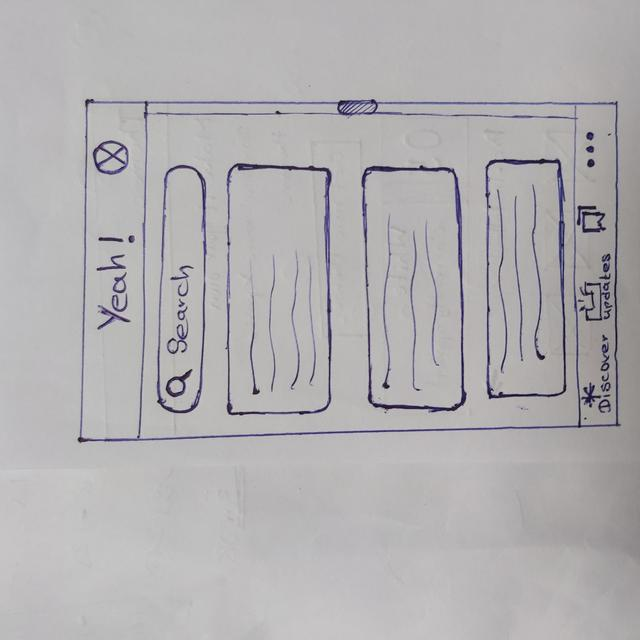AppBar: (81, 97, 143, 442)
BottomNavBar: (572, 101, 622, 428)
BottomNavItems: (579, 332, 616, 427), (573, 256, 620, 330), (573, 195, 618, 248), (575, 123, 617, 179)
CardView: (224, 163, 333, 415), (360, 164, 468, 413), (484, 159, 569, 397)
EditText: (156, 164, 210, 414)
Icon: (576, 203, 608, 236), (581, 281, 605, 323), (167, 369, 193, 397), (583, 385, 600, 409), (586, 130, 596, 170)
ListView: (223, 162, 573, 420)
MainLayout: (81, 95, 622, 429)
MultiLineText: (492, 186, 548, 371), (244, 251, 314, 395), (385, 218, 440, 390)
RoundedImage: (93, 140, 129, 175)
ScrollBar: (146, 97, 577, 123)
TextView: (96, 234, 129, 330), (600, 335, 611, 417), (603, 252, 613, 320)
VerticalListView: (222, 160, 571, 418)
